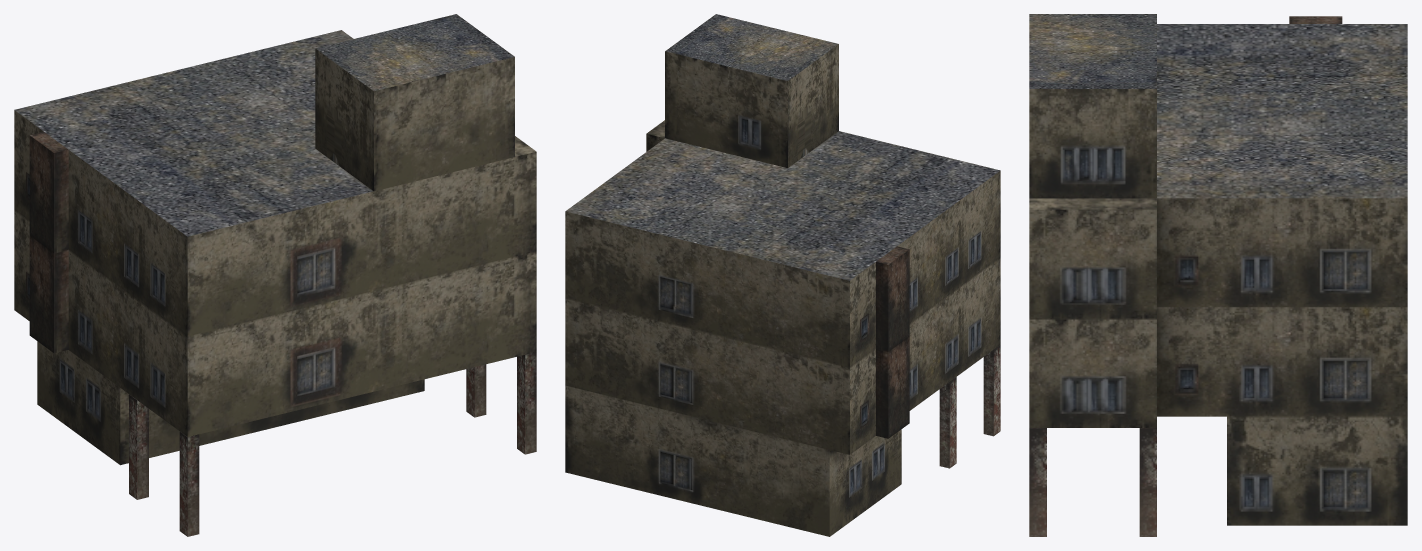
The model's file is LowendTall_02.FBX.
3 views of the same model, side by side, from view 1: azimuth 30°, elevation 25°; view 2: azimuth 150°, elevation 25°; view 3: azimuth 270°, elevation 25° (orthographic). The views are drawn at different scales.
Visible parts, largest first — view 1: LowendTall_02; view 2: LowendTall_02; view 3: LowendTall_02.
Part boxes in pixels (x1,y1,x2,y2): LowendTall_02: (14,14,536,536); LowendTall_02: (565,14,1000,536); LowendTall_02: (1029,14,1407,536).
Size of the model in its own units: 1943 by 2045 by 1606.
